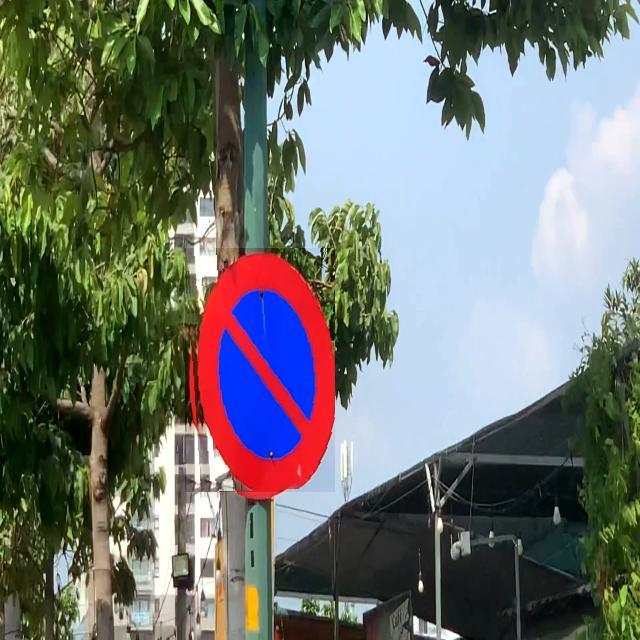P-131a: (185, 248, 335, 492)
